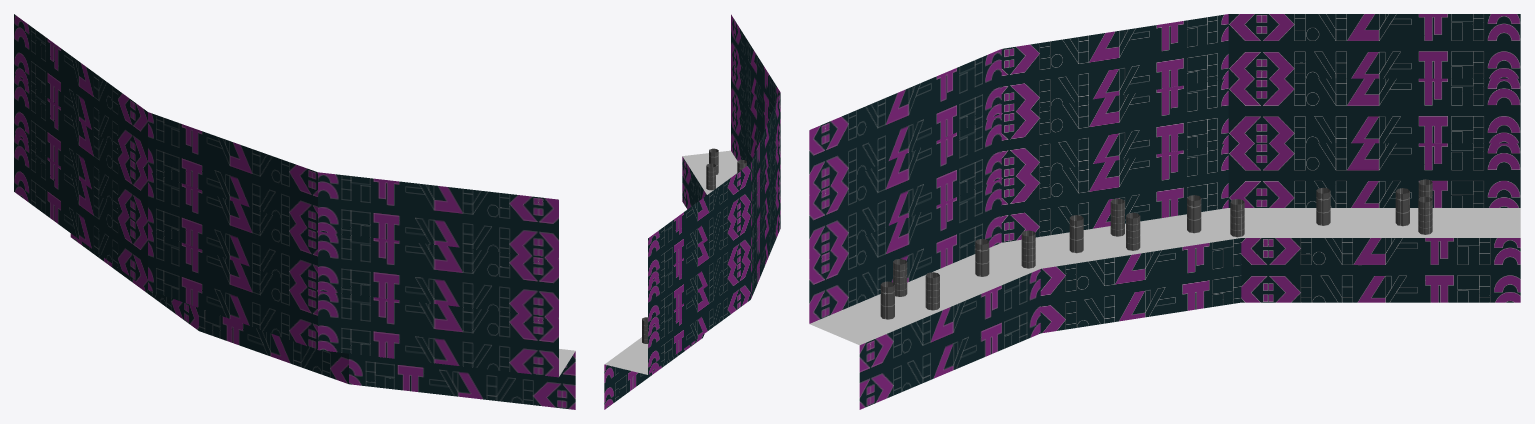
The model's file is Tile19.fbx.
3 views of the same model, side by side, from view 1: azimuth 30°, elevation 25°; view 2: azimuth 150°, elevation 25°; view 3: azimuth 270°, elevation 25° (orthographic). The views are drawn at different scales.
Visible parts, largest first — view 1: Tile18_WallLeft2, pasted__WallRight1; view 2: Tile18_WallLeft2, ground2, pasted__WallRight1, pCylinder39, pCylinder42; view 3: Tile18_WallLeft2, pasted__WallRight1, ground2.
Boxes of the visible parts, x1,y1,x2,y2 form: Tile18_WallLeft2: (14, 14, 558, 377); pasted__WallRight1: (70, 233, 575, 409); Tile18_WallLeft2: (648, 14, 780, 374); ground2: (605, 150, 737, 374); pasted__WallRight1: (604, 156, 706, 409); pCylinder39: (706, 163, 715, 190); pCylinder42: (709, 148, 718, 174); Tile18_WallLeft2: (809, 14, 1520, 323); pasted__WallRight1: (859, 238, 1520, 409); ground2: (809, 208, 1520, 345).
Size of what is drawn, in the model's own units: 45.63 by 40 by 99.78.
